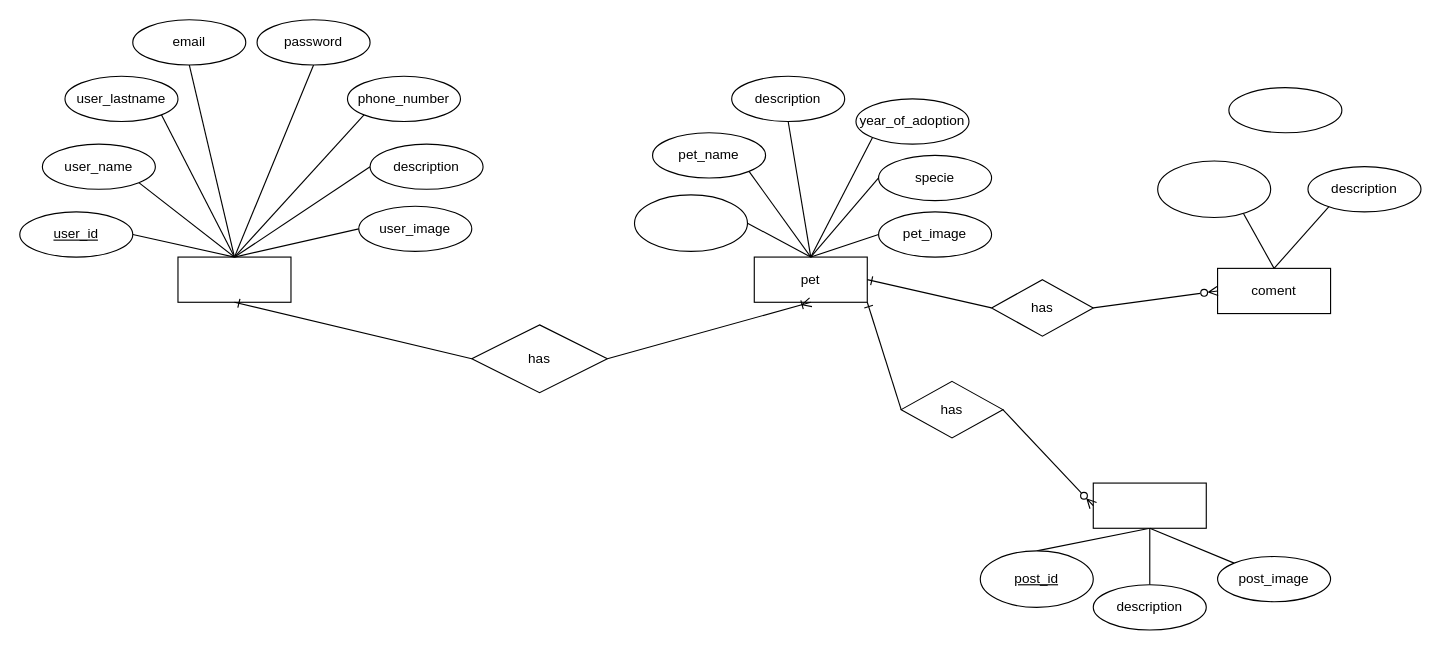
The diagram is 1441 pixels wide and 650 high, and some of its shapes have lost their labels. Here are the shapes that lost their labels. From the top down, the box of each, then its label:
(1228, 86, 1342, 133): coment_name
(1157, 160, 1271, 218): coment_id
(633, 194, 747, 251): pet_id
(177, 256, 291, 302): user
(1092, 482, 1206, 528): post
